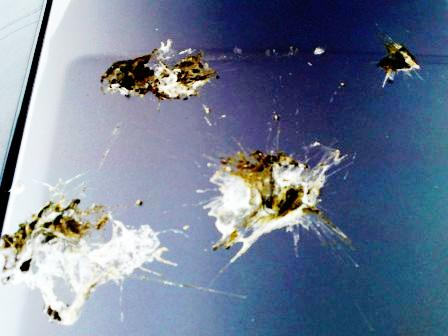Bird Poop: (0, 199, 174, 324), (209, 151, 327, 260), (101, 41, 214, 99), (378, 43, 418, 86)
